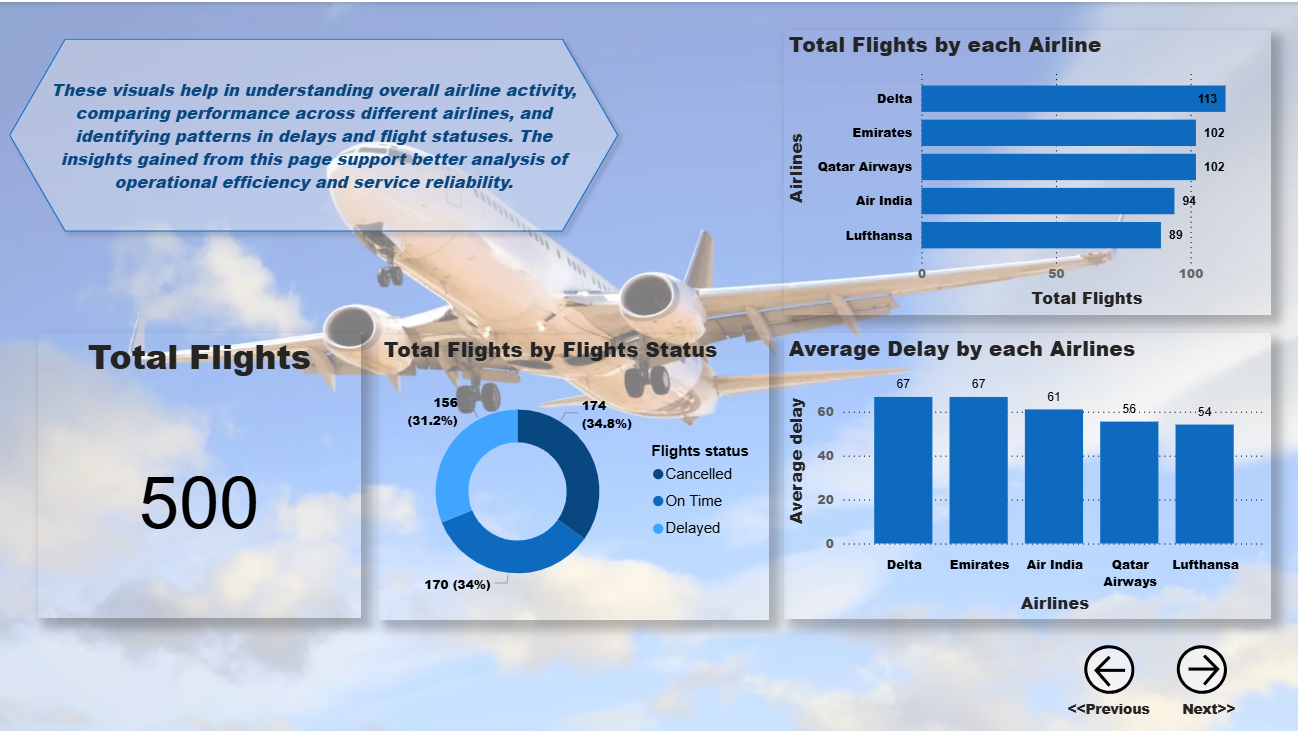

The dashboard page shown, as its layout file describes it:
{"tool":"powerbi","page":{"name":"Page 2","canvas":[1280,720],"ordinal":1},"visuals":[{"type":"card","title":"Total Flights","fields":{"Values":["Flights.Total Flights"]},"box":[36.8,325.2,317.8,279.8],"z":0},{"type":"donutChart","title":"Total Flights by Flights Status","fields":{"Category":["Flights.Flights.Status"],"Y":["Flights.Total Flights"]},"box":[371.8,326.4,382.8,279.8],"z":1000},{"type":"clusteredBarChart","title":"Total Flights by each Airline","fields":{"Category":["Airlines.Airlines.Airline_Name"],"Y":["Flights.Total Flights"]},"box":[769.3,27,478.5,279.8],"z":2000},{"type":"clusteredColumnChart","title":"Average Delay by each  Airlines","fields":{"Category":["Airlines.Airlines.Airline_Name"],"Y":["Flights.Avg Delay"]},"box":[769.3,325.2,478.5,281],"z":3000},{"type":"actionButton","box":[1148.5,625.8,62.6,58.9],"z":4000},{"type":"actionButton","box":[1057.7,625.8,62.6,58.9],"z":5000},{"type":"actionButton","box":[1069.9,636.8,50.3,40.5],"z":6000},{"type":"actionButton","box":[1160.7,635.6,50.3,40.5],"z":7000},{"type":"textbox","title":"<<Previous","box":[1043,684.7,92,27],"z":8000},{"type":"textbox","title":"Next>>","box":[1148.5,684.7,76.1,27],"z":9000},{"type":"shape","box":[0,27,616,207.4],"z":10000}]}

Visuals, with their boxes in screenshot pixels (x1, y1, x2, y2), scaled from the page's 1280x720 canvas onto the 1298x731 screenshot:
"Total Flights" card: left=37, top=330, right=360, bottom=614
"Total Flights by Flights Status" donutChart: left=377, top=331, right=765, bottom=615
"Total Flights by each Airline" clusteredBarChart: left=780, top=27, right=1265, bottom=311
"Average Delay by each  Airlines" clusteredColumnChart: left=780, top=330, right=1265, bottom=615
actionButton: left=1165, top=635, right=1228, bottom=695
actionButton: left=1073, top=635, right=1136, bottom=695
actionButton: left=1085, top=647, right=1136, bottom=688
actionButton: left=1177, top=645, right=1228, bottom=686
"<<Previous" textbox: left=1058, top=695, right=1151, bottom=723
"Next>>" textbox: left=1165, top=695, right=1242, bottom=723
shape: left=0, top=27, right=625, bottom=238
